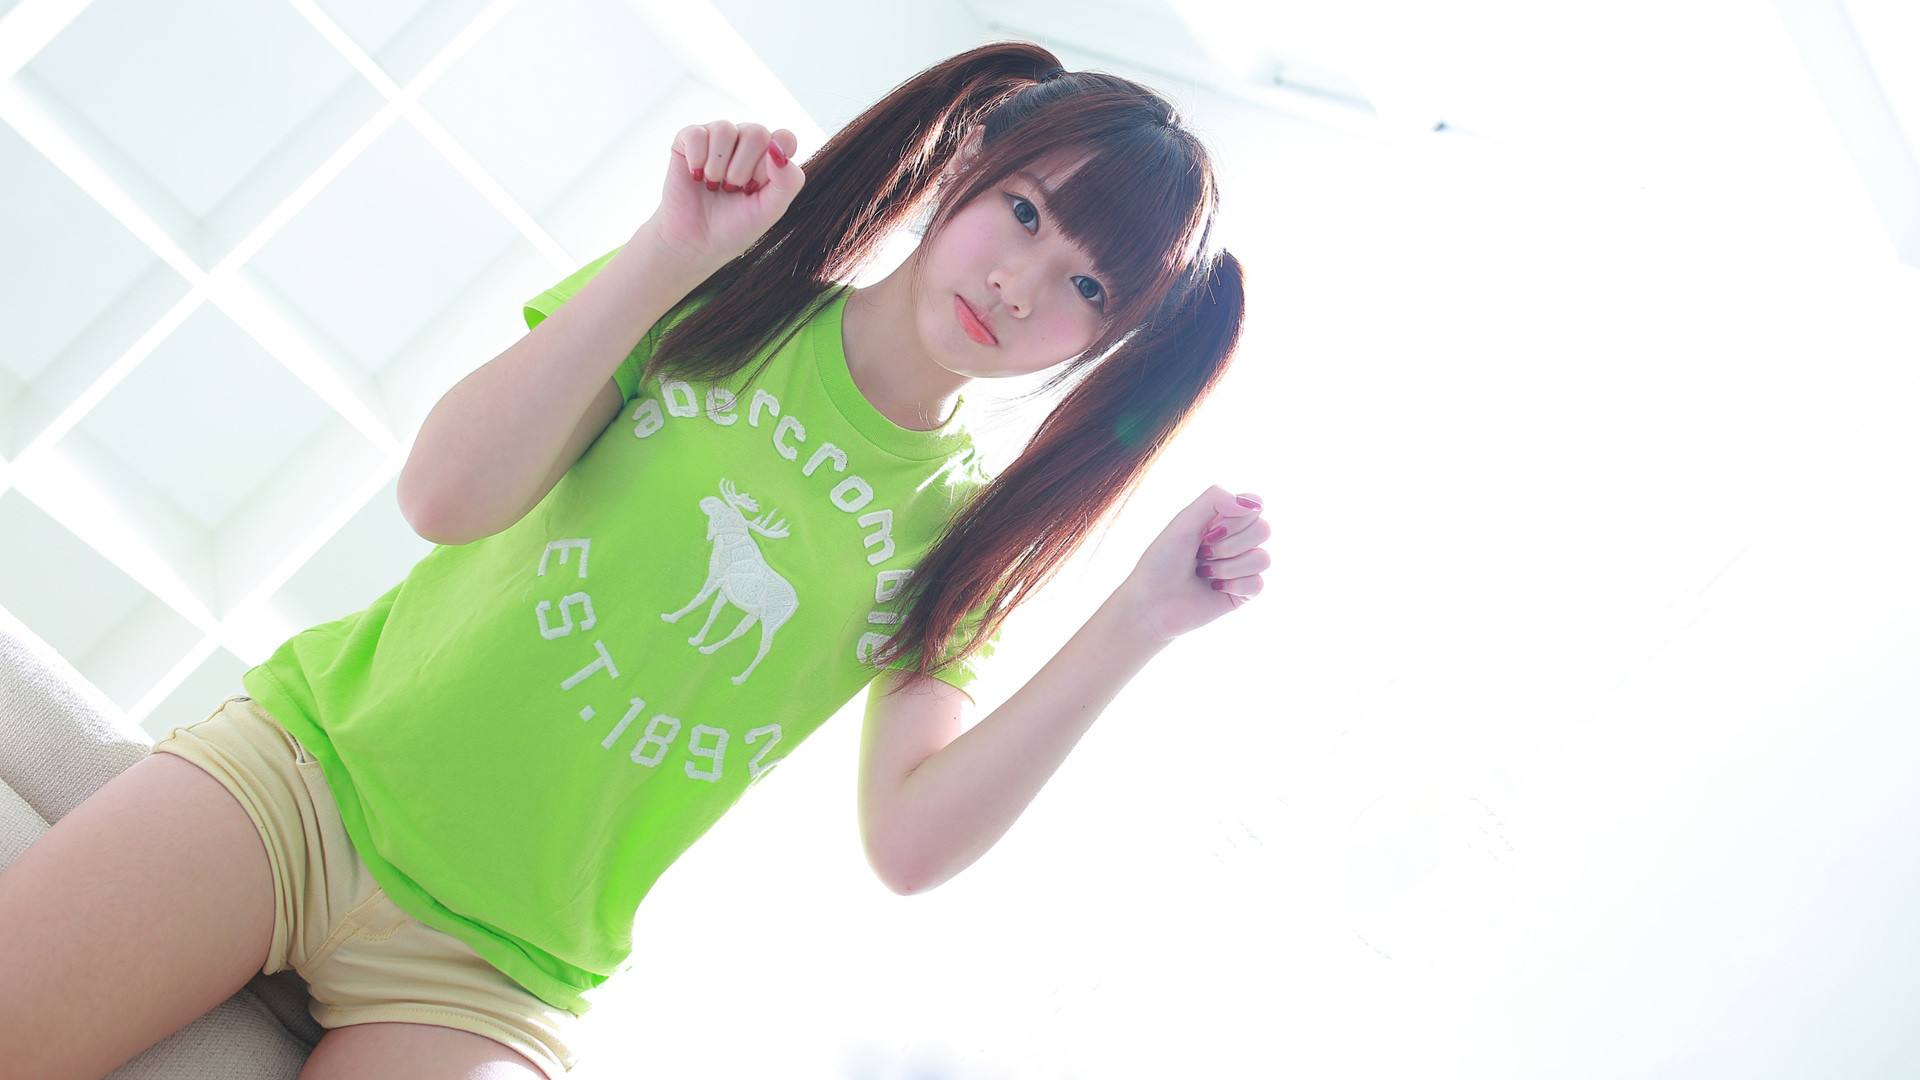person: (301, 74, 1588, 1080)
